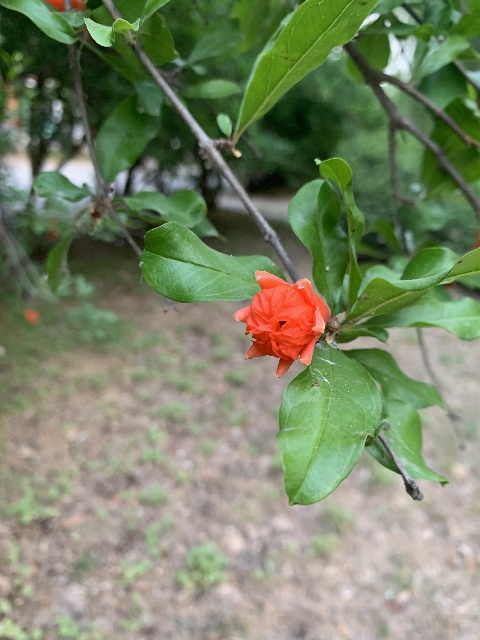bud: (18, 0, 88, 13)
flower: (232, 270, 330, 377)
